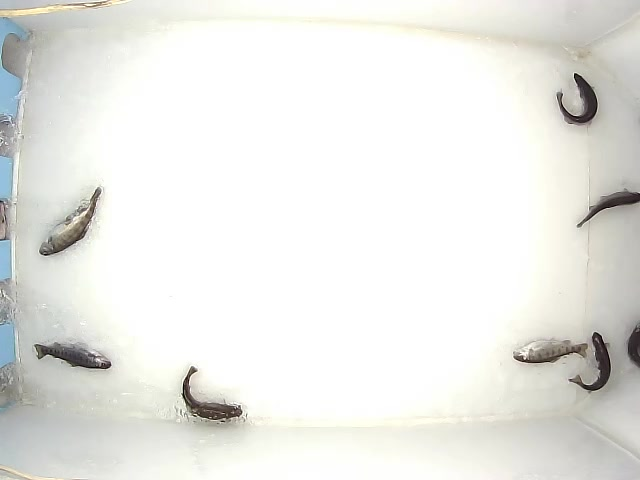fish: (35, 181, 103, 260), (177, 364, 248, 423), (564, 330, 611, 391), (33, 338, 114, 371), (552, 71, 599, 124), (510, 336, 590, 365)
